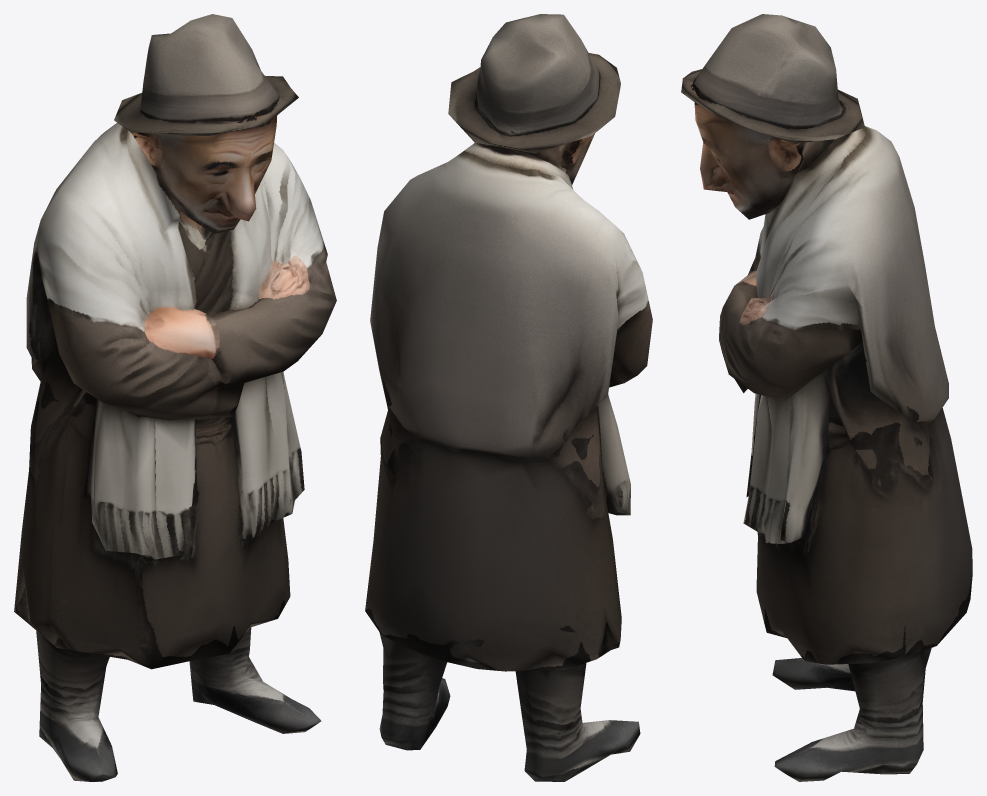
The model's file is villager_shepherd_single_1500.glb.
The picture shows the model from 3 angles, left to right: view 1: azimuth 30°, elevation 25°; view 2: azimuth 150°, elevation 25°; view 3: azimuth 270°, elevation 25°; orthographic projection. The views are drawn at different scales.
Size of the model in its own units: 0.3088 by 0.8411 by 0.3129.
Materials: 1 (1 with a texture image).
